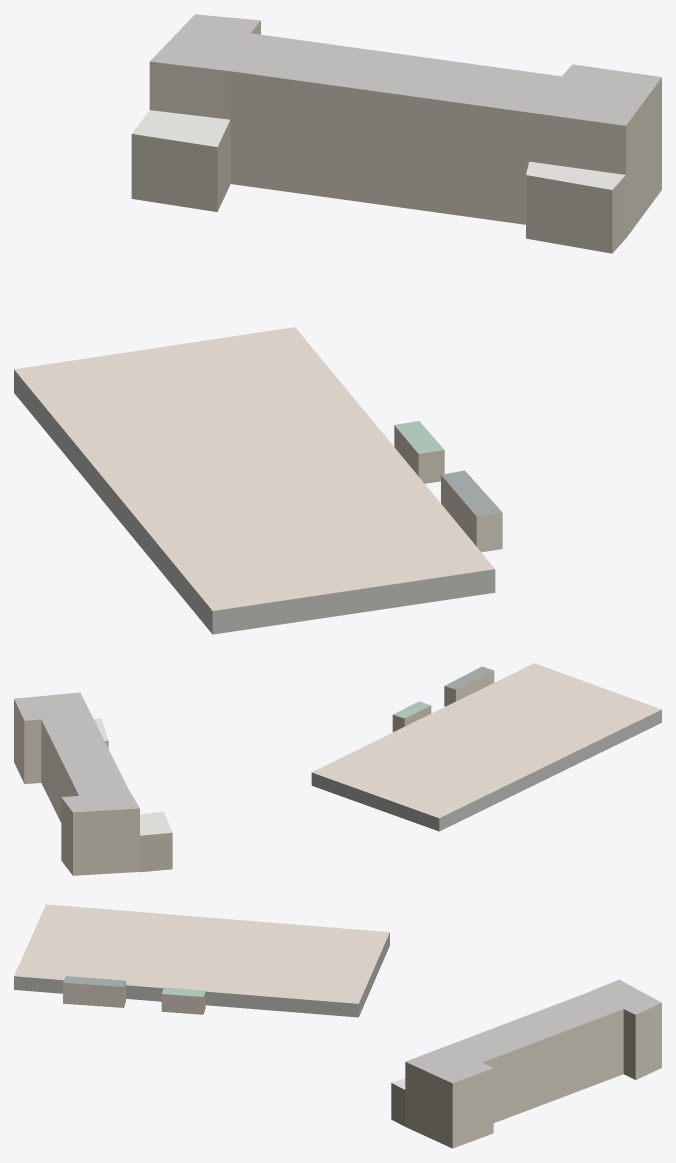
The picture shows the model from 3 angles, top to bottom: view 1: azimuth 30°, elevation 25°; view 2: azimuth 150°, elevation 25°; view 3: azimuth 270°, elevation 25°; orthographic projection. The views are drawn at different scales.
Visible parts, largest first — view 1: tuile; view 2: tuile; view 3: tuile.
Part boxes in pixels (left/top/right/bottom): tuile: left=14, top=14, right=661, bottom=634; tuile: left=14, top=663, right=661, bottom=875; tuile: left=14, top=904, right=661, bottom=1148.
Bounding box in the file's own units: 118 × 16.04 × 144.
